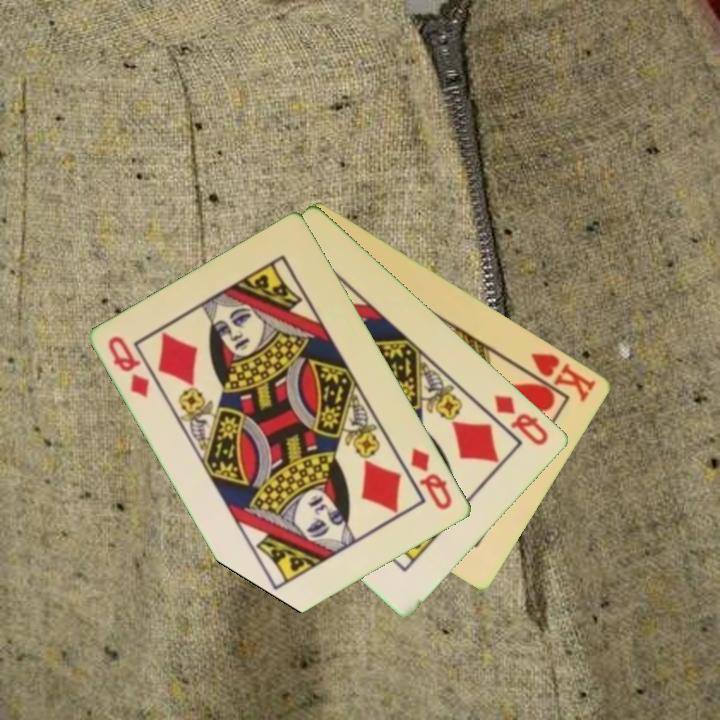Kh: (516, 349, 600, 405)
Qd: (490, 390, 552, 449), (407, 444, 456, 514), (105, 332, 153, 401)
